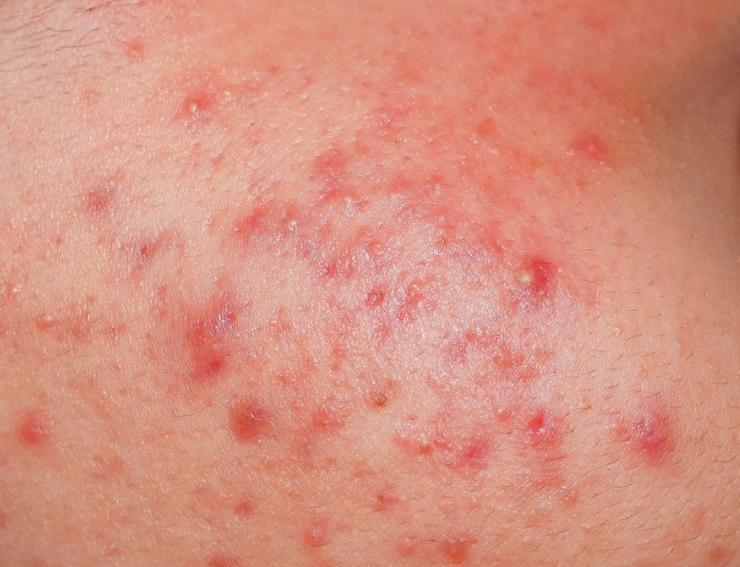acne_scars: (205, 193, 331, 274), (429, 315, 545, 390), (161, 308, 245, 407), (377, 160, 464, 230), (372, 516, 491, 567), (392, 266, 444, 329), (294, 497, 355, 548), (350, 277, 396, 322)
papular: (602, 406, 693, 466), (1, 412, 72, 486), (225, 387, 285, 463)
purulent: (176, 77, 231, 139), (510, 251, 559, 306), (324, 179, 374, 224)
whitehead: (408, 425, 450, 470), (482, 387, 522, 433), (287, 80, 325, 122), (553, 137, 587, 173), (479, 141, 514, 172), (210, 269, 225, 297)
